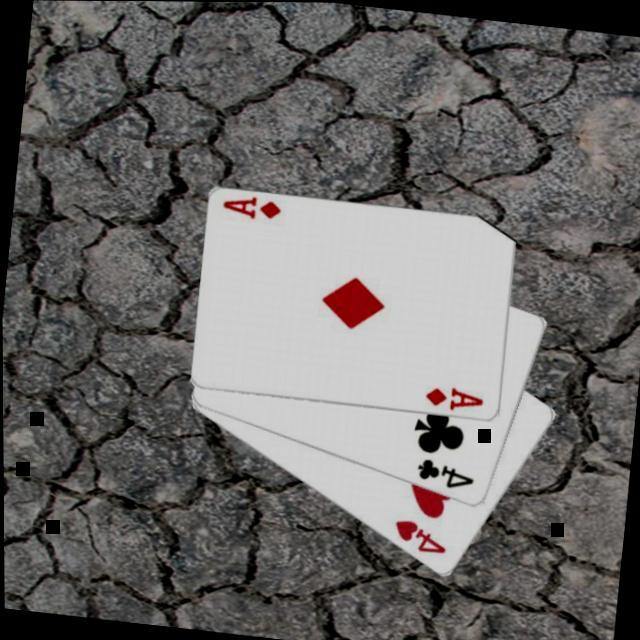4C: (410, 453, 475, 492)
4H: (386, 513, 449, 556)
AD: (420, 380, 485, 414), (218, 190, 282, 223)
